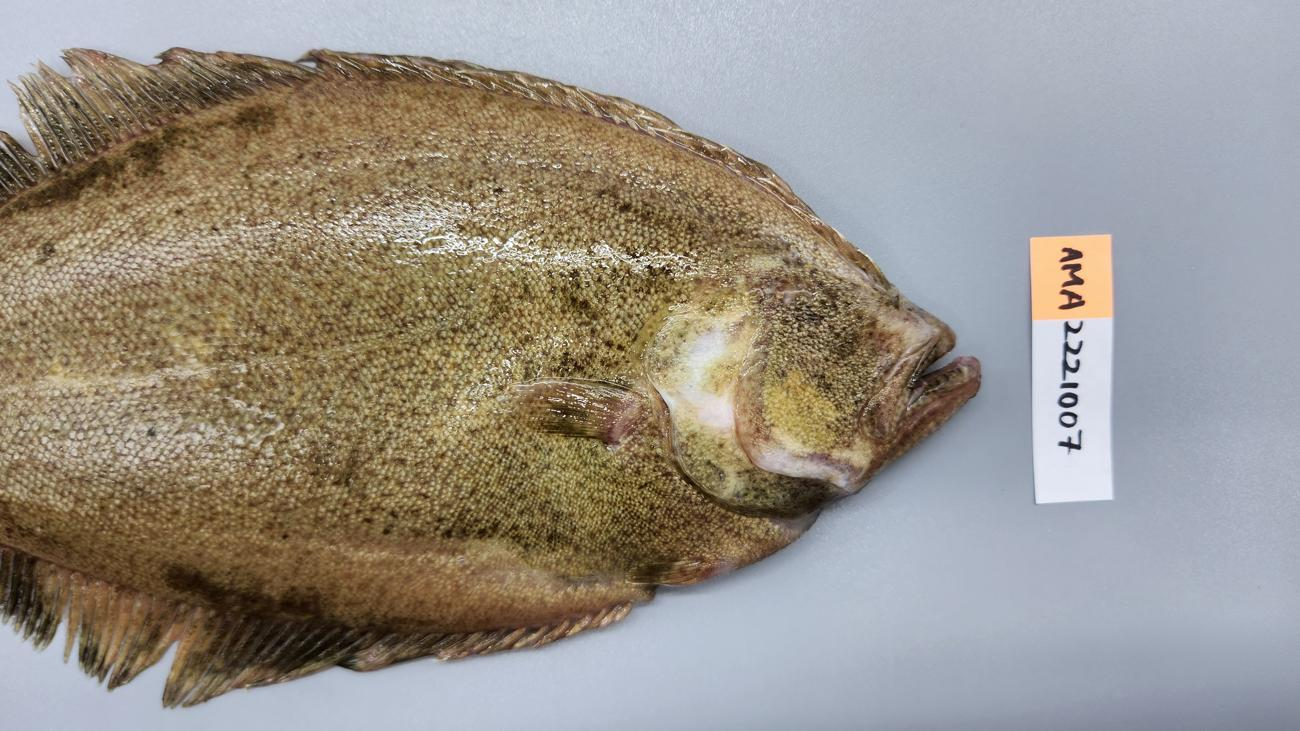MAFAH: (0, 540, 632, 706)
